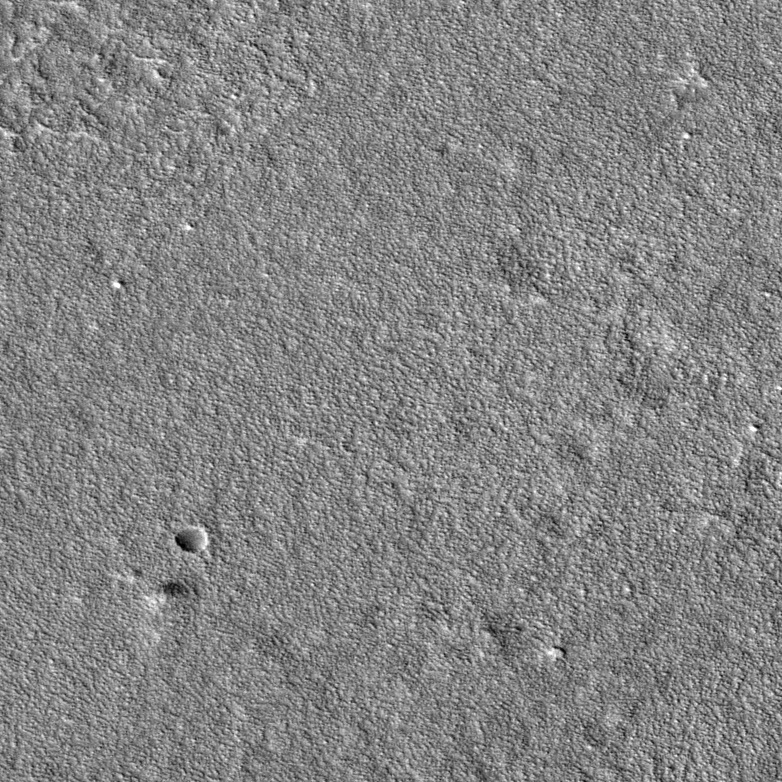dust_devil: (143, 578, 200, 606)
